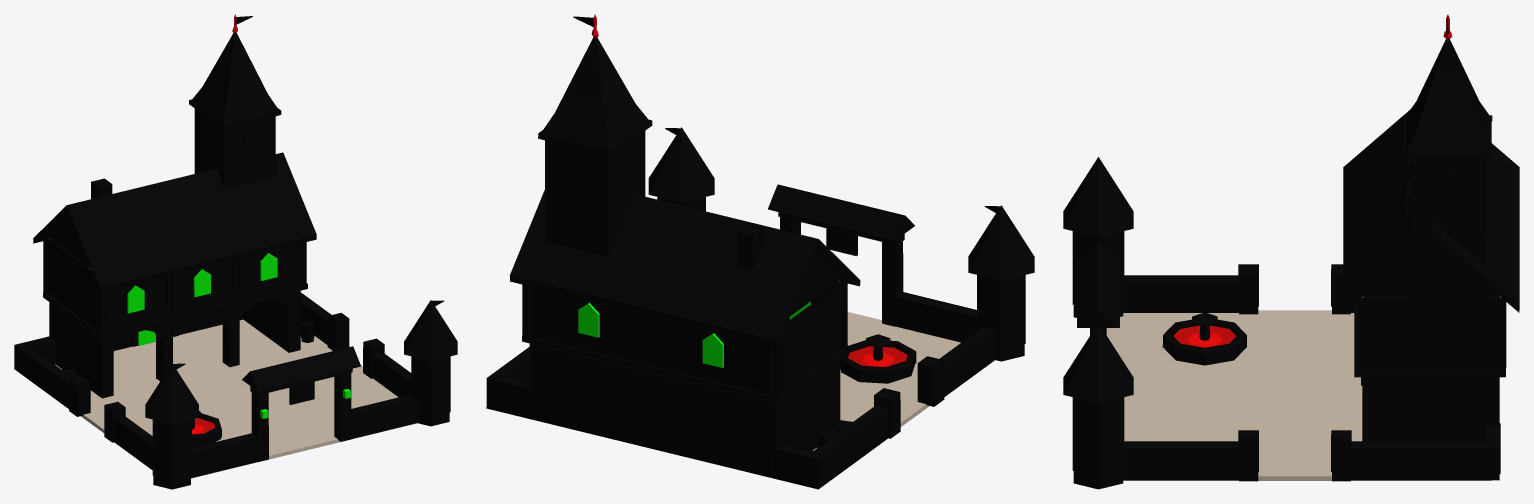
File: SM_TownHall.fbx
3 renders of one model, left to right at view 1: azimuth 30°, elevation 25°; view 2: azimuth 150°, elevation 25°; view 3: azimuth 270°, elevation 25°, orthographic. The views are drawn at different scales.
Visible parts, largest first — view 1: SM_TownHall, SM_TownHall_Plaza; view 2: SM_TownHall, SM_TownHall_Plaza; view 3: SM_TownHall, SM_TownHall_Plaza.
Part boxes in pixels (bbox=[...]): SM_TownHall: bbox=[14, 14, 457, 489]; SM_TownHall_Plaza: bbox=[55, 319, 416, 478]; SM_TownHall: bbox=[486, 14, 1034, 489]; SM_TownHall_Plaza: bbox=[813, 312, 960, 450]; SM_TownHall: bbox=[1063, 14, 1519, 489]; SM_TownHall_Plaza: bbox=[1106, 310, 1491, 480].
Size of the model in its own units: 17.38 by 17.24 by 16.72.
